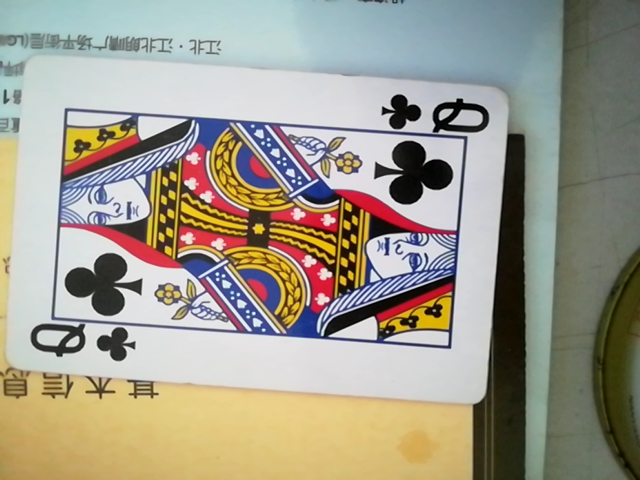mh q: (4, 45, 515, 408)
